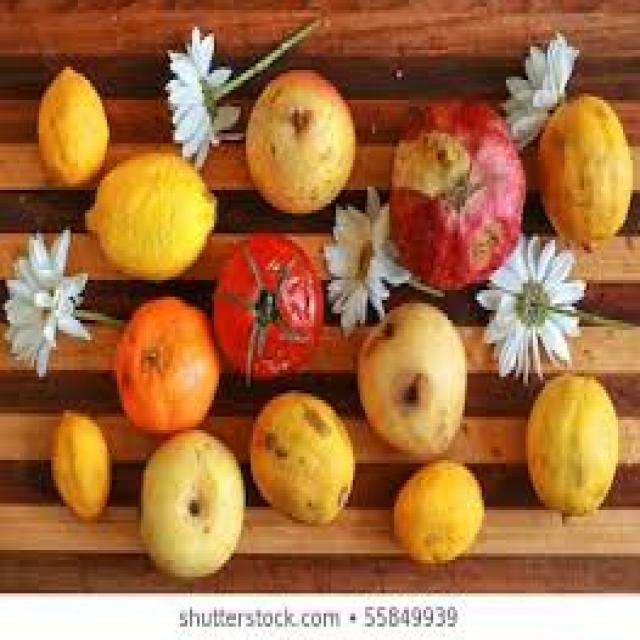organic waste: (385, 93, 523, 280), (472, 230, 621, 377), (163, 17, 324, 153), (2, 223, 122, 377), (319, 183, 445, 327), (353, 300, 465, 453), (209, 230, 319, 377), (83, 150, 214, 273), (244, 63, 350, 210), (139, 427, 241, 573), (535, 90, 628, 250), (112, 293, 219, 430), (523, 370, 616, 520), (248, 386, 350, 516), (390, 456, 484, 556), (37, 60, 107, 183), (499, 30, 572, 140), (49, 403, 107, 517)
